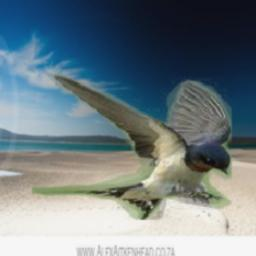Swallow: (33, 70, 233, 220)
